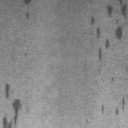red iron: (107, 0, 128, 40), (91, 16, 110, 60), (2, 84, 20, 128), (24, 0, 32, 18), (116, 98, 125, 114), (126, 66, 128, 72)
